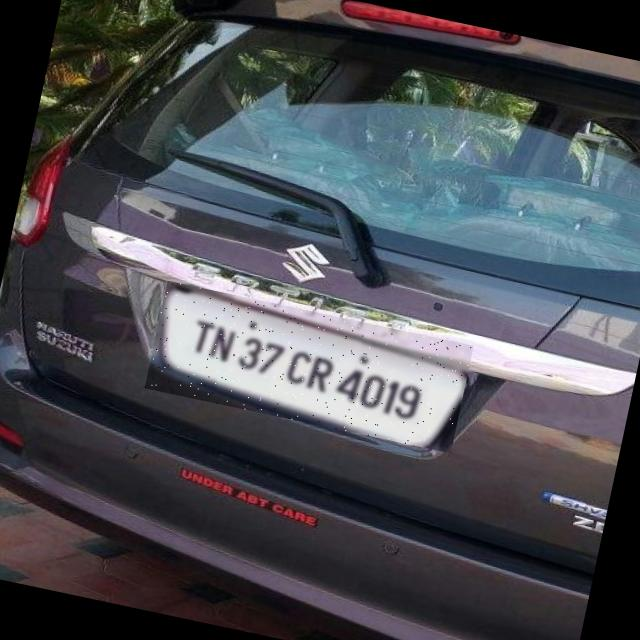Plate: (145, 281, 474, 454)
